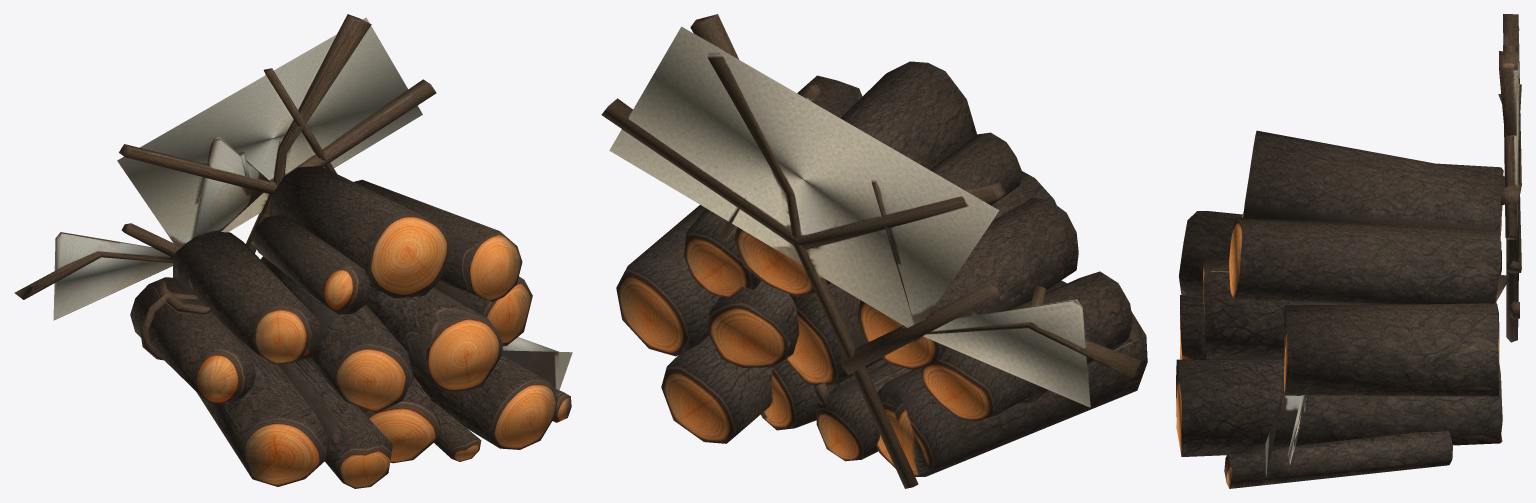
File: forest-logpile.glb
3 renders of one model, left to right at view 1: azimuth 30°, elevation 25°; view 2: azimuth 150°, elevation 25°; view 3: azimuth 270°, elevation 25°, orthographic. The views are drawn at different scales.
Bounding box in the file's own units: 0.9727 × 0.6982 × 0.5639.
1 material, 1 textured.
